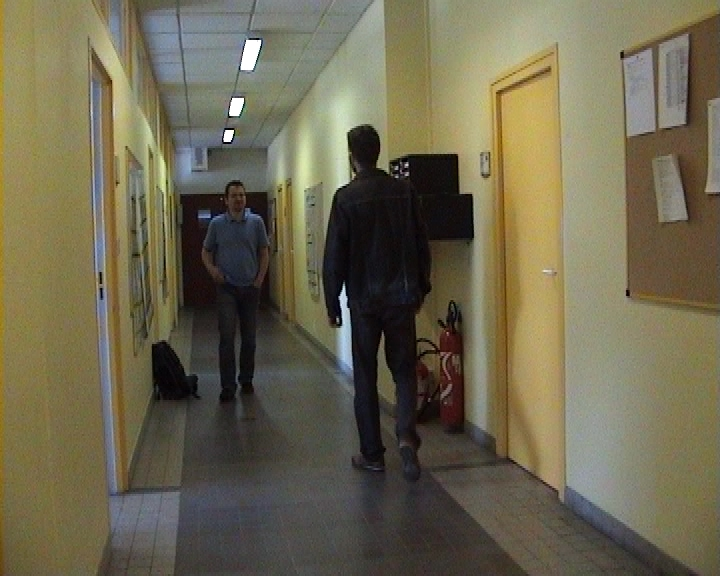leave bag unattended: (124, 303, 311, 416)
